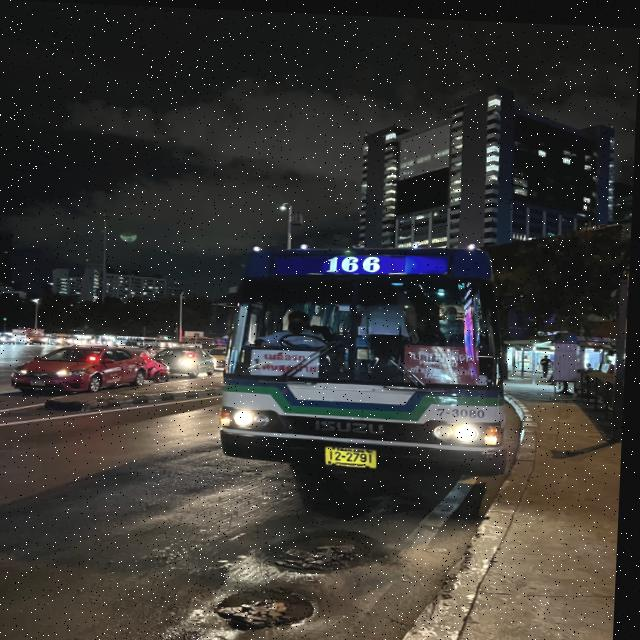BMTA-bus: (219, 229, 522, 480)
Bus-Line-Number: (324, 250, 389, 273)
Destination-Sign-Extra-Bus: (406, 340, 483, 380)
